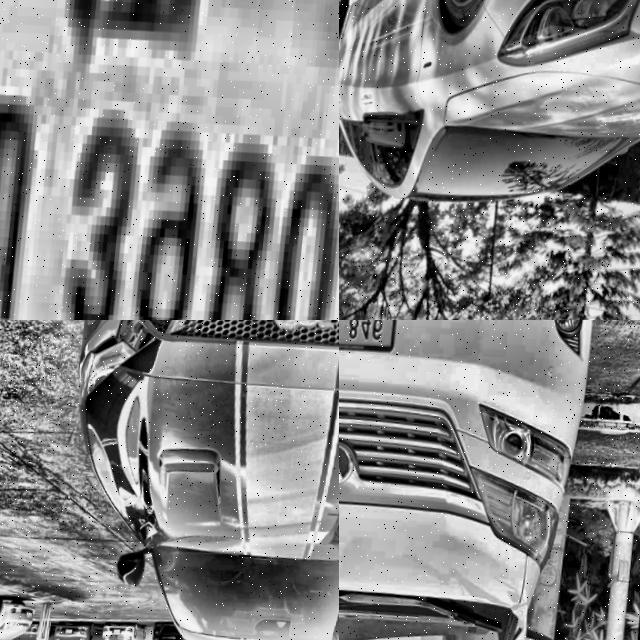license-plate: (0, 0, 339, 320), (339, 320, 401, 363), (21, 610, 31, 619)
